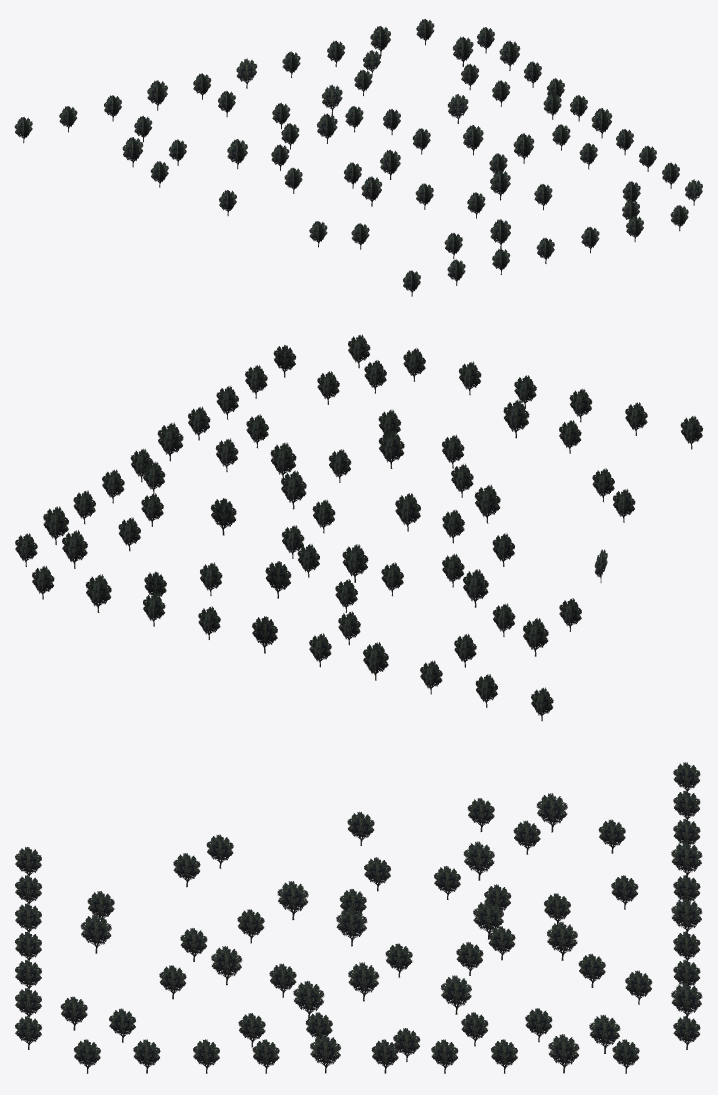
File: planeTree01.FBX
The picture shows the model from 3 angles, top to bottom: view 1: azimuth 30°, elevation 25°; view 2: azimuth 150°, elevation 25°; view 3: azimuth 270°, elevation 25°; orthographic projection. The views are drawn at different scales.
Visible parts, largest first — view 1: planeTree01; view 2: planeTree01; view 3: planeTree01.
Part boxes in pixels (x1,y1,x2,y2): planeTree01: (14,19,702,296); planeTree01: (15,334,702,721); planeTree01: (15,762,702,1073).
Bounding box in the file's own units: 4971 × 320 × 4990.
1 material, 1 textured.
